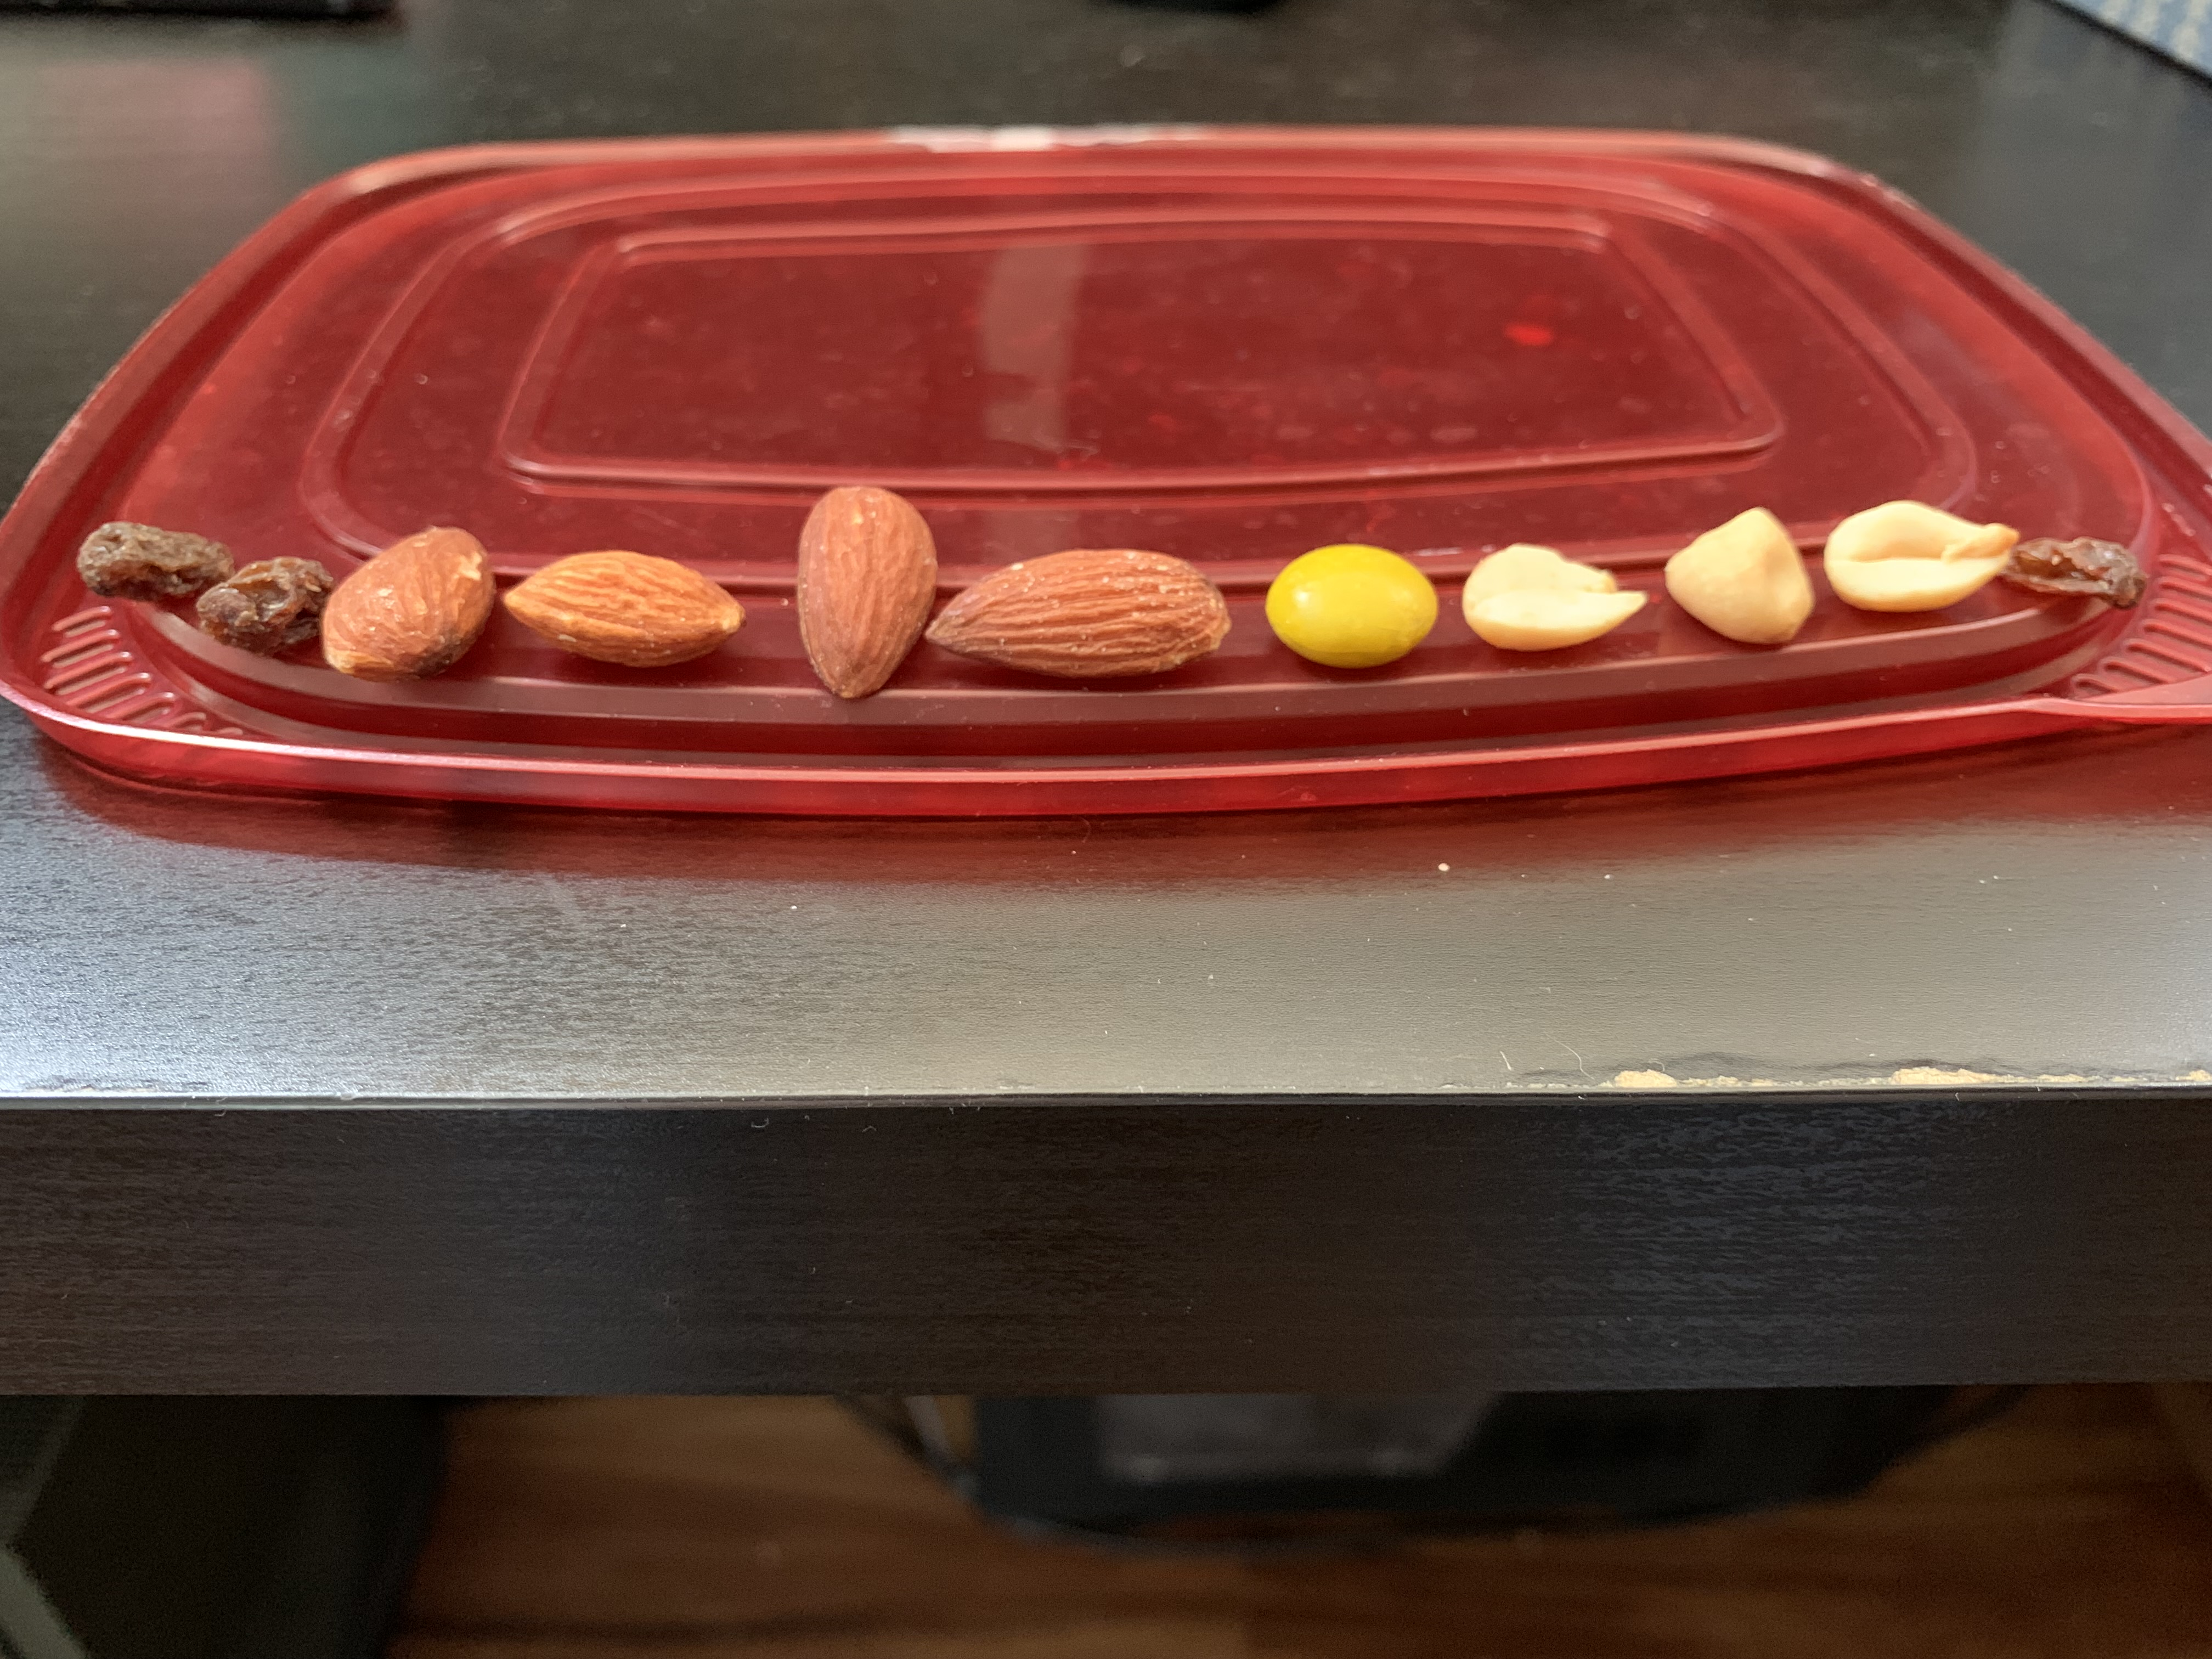almond: (923, 547, 1231, 678), (794, 484, 942, 702), (503, 547, 752, 671), (322, 525, 496, 683)
mm: (1263, 542, 1440, 673)
peanut: (1824, 497, 2024, 615), (1663, 505, 1818, 647), (1461, 542, 1651, 653)
raisin: (195, 554, 338, 652), (73, 518, 237, 599), (1994, 535, 2151, 612)
